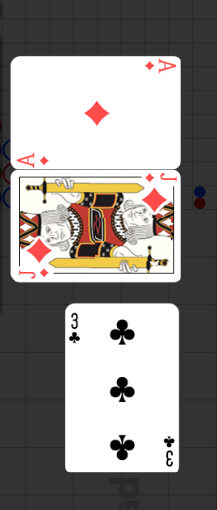3C: (162, 433, 176, 467), (68, 312, 82, 346)
AD: (16, 151, 52, 168)
